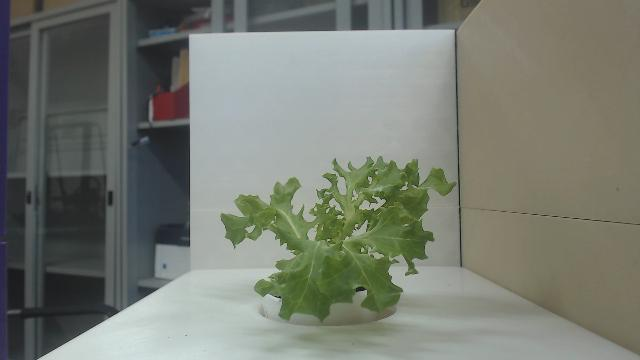Vegetative Stage: (220, 154, 458, 324)
